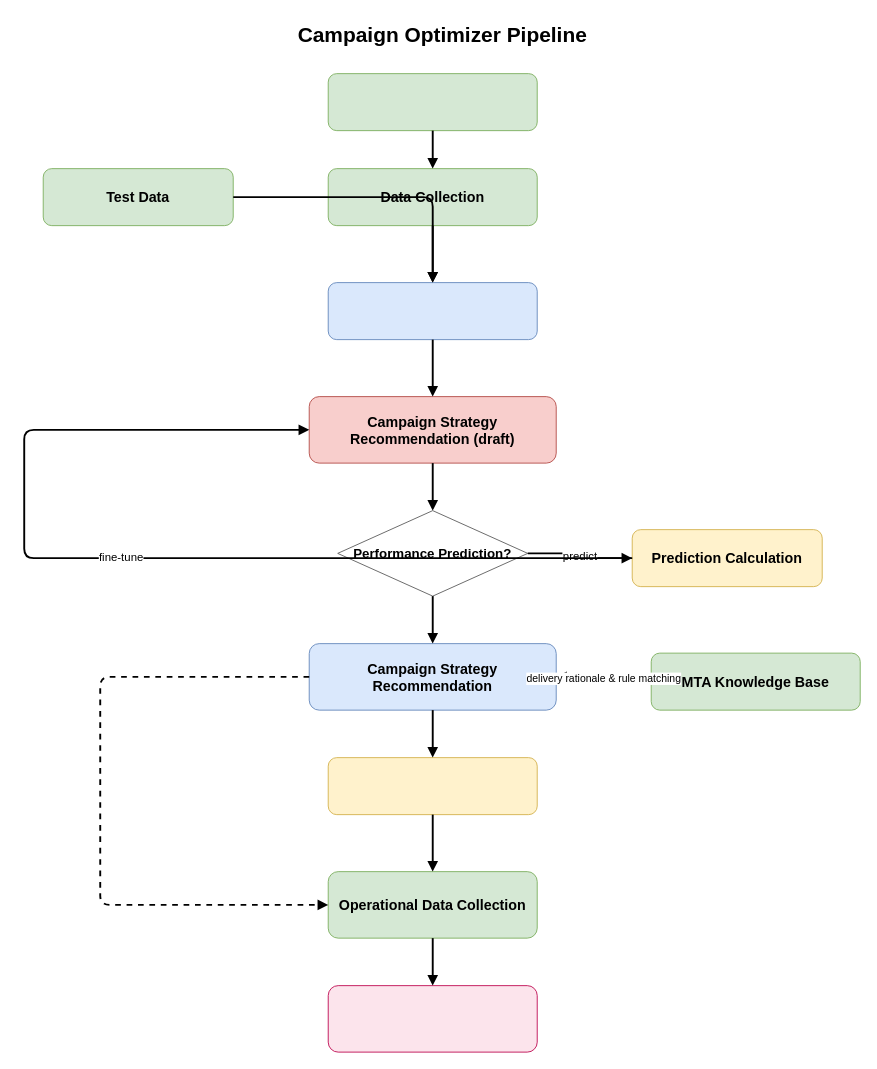
This 877x1069 diagram has some shape labels left out. The shapes that lost their labels are listed below. From the top down, each one's centre as x and y in pixels, then its label:
(x=432, y=102): New Campaign
(x=432, y=311): MTA Calculation
(x=432, y=786): A/B Testing
(x=432, y=1018): ROI Calculation & Reporting
